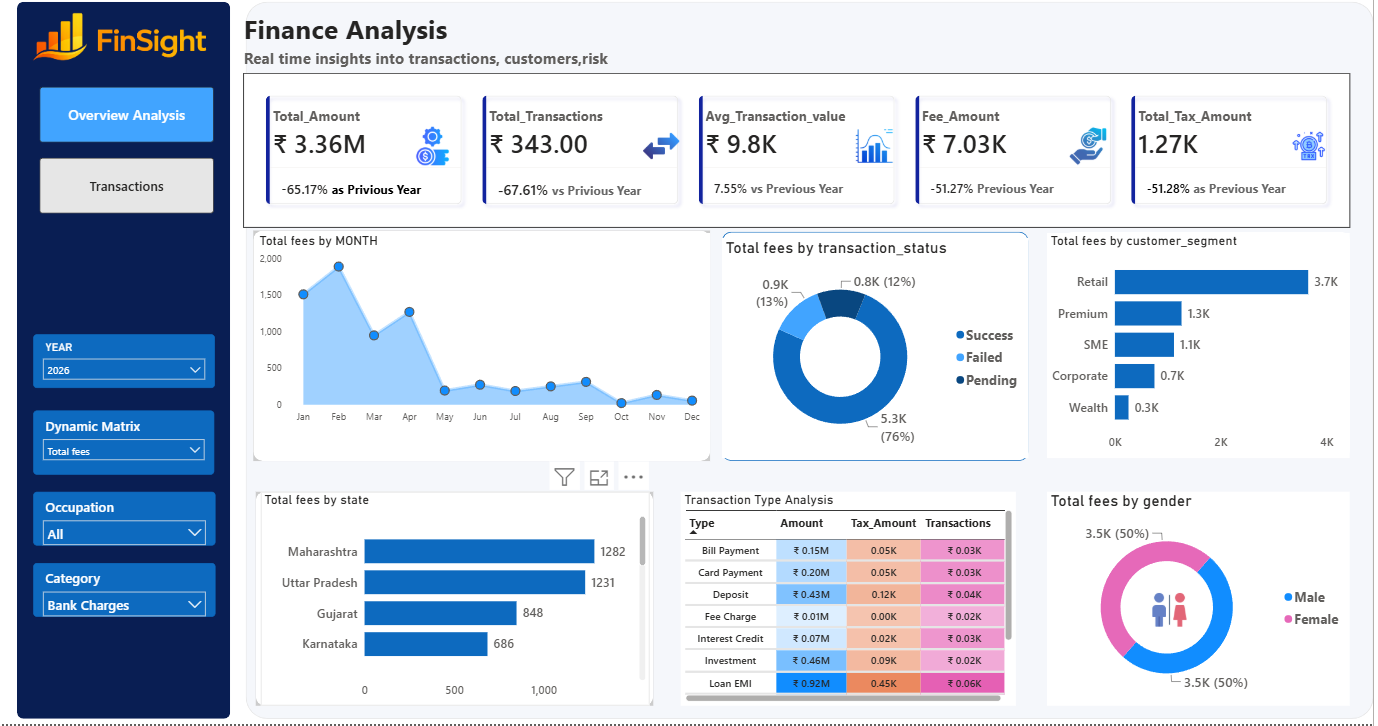

The dashboard page shown, as its layout file describes it:
{"tool":"powerbi","page":{"name":"Overview Analysis","canvas":[1800,950],"ordinal":0},"visuals":[{"type":"shape","box":[26.9,5.1,279,938.1],"z":0},{"type":"shape","box":[325,5.1,1475.3,938.1],"z":1000},{"type":"image","box":[26.9,5.1,274.5,92.6],"z":2000},{"type":"cardVisual","fields":{"Data":["calander__table.dashboard title"]},"box":[306.5,0,547.3,107.8],"z":3000},{"type":"cardVisual","fields":{"Data":["finance_transactions.TotalAmount","finance_transactions.Total Transactions","calander__table.AvgTransaction value","Sum(finance_transactions.fee_amount)","finance_transactions.Total_Tax_Amount"]},"box":[321.7,97.7,1448.4,202.1],"z":4000},{"type":"slicer","fields":{"Values":["calander__table.YEAR"]},"box":[47.2,439.6,237.5,70.7],"z":5000},{"type":"image","box":[544.5,168.6,50.7,50.7],"z":6000},{"type":"image","box":[844.4,168.6,50.7,50.7],"z":7000},{"type":"image","box":[1391.9,168.6,71.6,50.7],"z":8000},{"type":"image","box":[1117.4,168.6,61.2,50.7],"z":9000},{"type":"image","box":[1690.3,168.6,50.7,50.7],"z":10000},{"type":"slicer","fields":{"Values":["Dynamic Matrix.Dynamic Matrix"]},"box":[48.1,538.9,236.8,84.1],"z":11000},{"type":"shape","box":[335.1,304.8,597.9,301.5],"z":12000},{"type":"areaChart","fields":{"Y":["calander__table.Total_tax"],"Category":["calander__table.MONTH"]},"box":[338.5,308.2,594.5,259.4],"z":13000},{"type":"shape","box":[948.2,306.5,400.8,299.8],"z":14000},{"type":"donutChart","fields":{"Y":["calander__table.Total_tax"],"Category":["finance_transactions.transaction_status"]},"box":[948.4,314,400.6,287.8],"z":15000},{"type":"shape","box":[1394.5,306.5,375.6,296.4],"z":16000},{"type":"barChart","fields":{"Y":["calander__table.Total_tax"],"Category":["customers.customer_segment"]},"box":[1374.3,308.2,395.8,294.7],"z":17000},{"type":"shape","box":[338.5,645.9,520,279.6],"z":18000},{"type":"barChart","fields":{"Y":["calander__table.Total_tax"],"Category":["customers.state"]},"box":[345,645.9,508.5,279.6],"z":19000},{"type":"tableEx","title":"Transaction Type Analysis","fields":{"Values":["finance_transactions.transaction_type","finance_transactions.TotalAmount","finance_transactions.Total_Tax_Amount","finance_transactions.Total Transactions"]},"box":[894.4,645.9,438.2,279.6],"z":20000},{"type":"donutChart","fields":{"Y":["calander__table.Total_tax"],"Category":["customers.gender"]},"box":[1373.6,645.9,395.7,279.6],"z":21000},{"type":"image","box":[1497.8,775.1,71.9,50.7],"z":22000},{"type":"slicer","fields":{"Values":["customers.occupation"]},"box":[48.1,645.3,238.6,70.4],"z":23000},{"type":"slicer","fields":{"Values":["finance_transactions.merchant_category"]},"box":[48.1,739.7,238.6,70.4],"z":24000},{"type":"pageNavigator","box":[54.9,116.7,228.3,166.5],"z":25000}]}

Visuals, with their boxes in screenshot pixels (x1, y1, x2, y2), scaled from the page's 1800x950 canvas onto the 1378x726 screenshot:
shape: box=[21, 4, 234, 721]
shape: box=[249, 4, 1377, 721]
image: box=[21, 4, 231, 75]
cardVisual - calander__table.dashboard title: box=[235, 0, 654, 82]
cardVisual - finance_transactions.TotalAmount x finance_transactions.Total Transactions: box=[246, 75, 1355, 229]
slicer - calander__table.YEAR: box=[36, 336, 218, 390]
image: box=[417, 129, 456, 168]
image: box=[646, 129, 685, 168]
image: box=[1066, 129, 1120, 168]
image: box=[855, 129, 902, 168]
image: box=[1294, 129, 1333, 168]
slicer - Dynamic Matrix.Dynamic Matrix: box=[37, 412, 218, 476]
shape: box=[257, 233, 714, 463]
areaChart - calander__table.Total_tax x calander__table.MONTH: box=[259, 236, 714, 434]
shape: box=[726, 234, 1033, 463]
donutChart - calander__table.Total_tax x finance_transactions.transaction_status: box=[726, 240, 1033, 460]
shape: box=[1068, 234, 1355, 461]
barChart - calander__table.Total_tax x customers.customer_segment: box=[1052, 236, 1355, 461]
shape: box=[259, 494, 657, 707]
barChart - calander__table.Total_tax x customers.state: box=[264, 494, 653, 707]
"Transaction Type Analysis" tableEx: box=[685, 494, 1020, 707]
donutChart - calander__table.Total_tax x customers.gender: box=[1052, 494, 1354, 707]
image: box=[1147, 592, 1202, 631]
slicer - customers.occupation: box=[37, 493, 219, 547]
slicer - finance_transactions.merchant_category: box=[37, 565, 219, 619]
pageNavigator: box=[42, 89, 217, 216]
